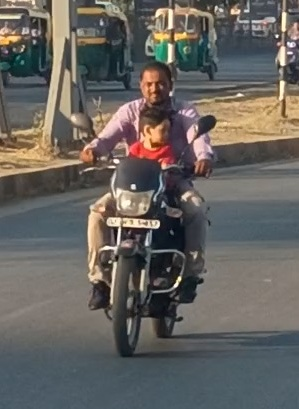BikeWithRider: (65, 56, 224, 361)
NoHelmet: (132, 57, 180, 111), (130, 106, 180, 150)
